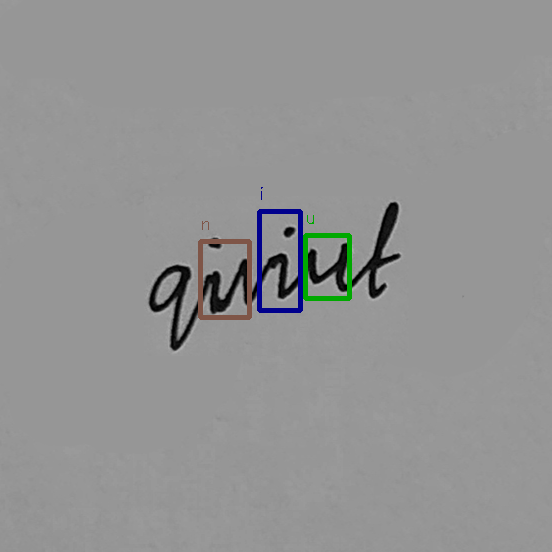i: (201, 231, 226, 320), (275, 220, 297, 304)
q: (143, 260, 196, 354)
t: (359, 199, 404, 301)
u: (302, 237, 354, 296)
v: (234, 251, 275, 308)
